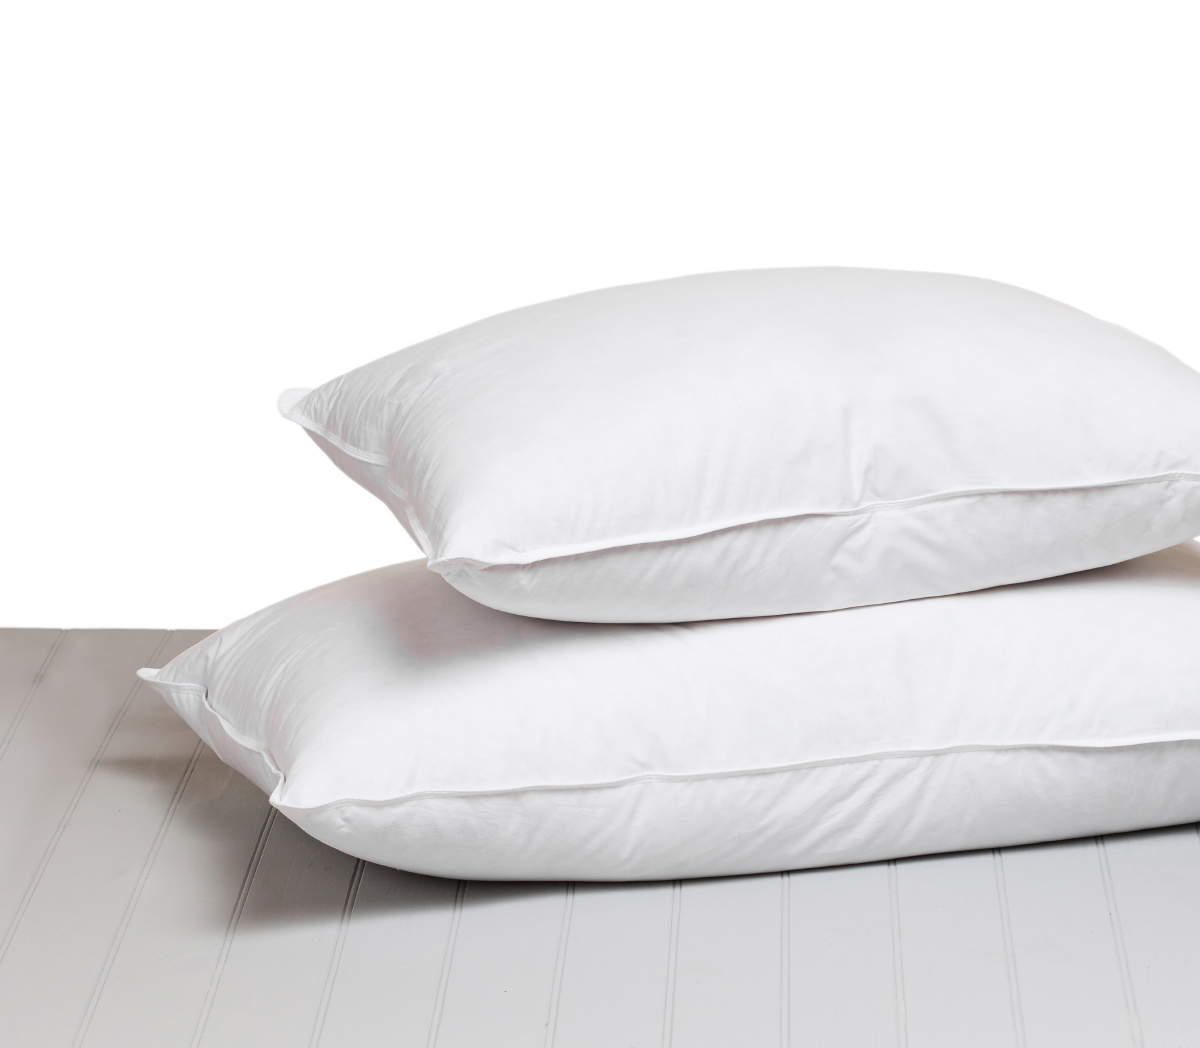bantal: (85, 551, 1200, 909), (271, 246, 1200, 606)
